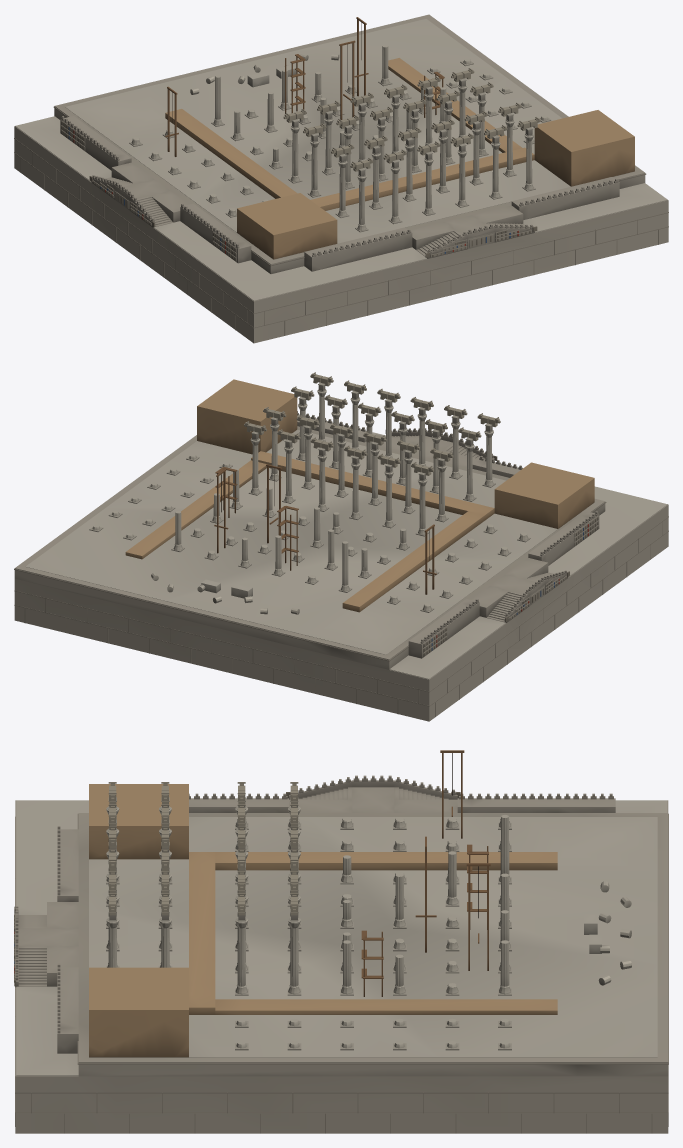
The model's file is apadana-500.glb.
3 renders of one model, top to bottom at view 1: azimuth 30°, elevation 25°; view 2: azimuth 150°, elevation 25°; view 3: azimuth 270°, elevation 25°, orthographic. The views are drawn at different scales.
Parts seen in each view (by area): view 1: p0_platform, p1_columns; view 2: p0_platform, p1_columns; view 3: p0_platform, p1_columns.
Boxes of the visible parts, box(x1,y1,x2,y2) form: p0_platform: box(14, 14, 668, 343); p1_columns: box(129, 17, 634, 259); p0_platform: box(14, 411, 668, 721); p1_columns: box(89, 372, 594, 614); p0_platform: box(14, 775, 668, 1133); p1_columns: box(89, 750, 631, 1057).
Size of the model in its own units: 124 by 37.4 by 124.
